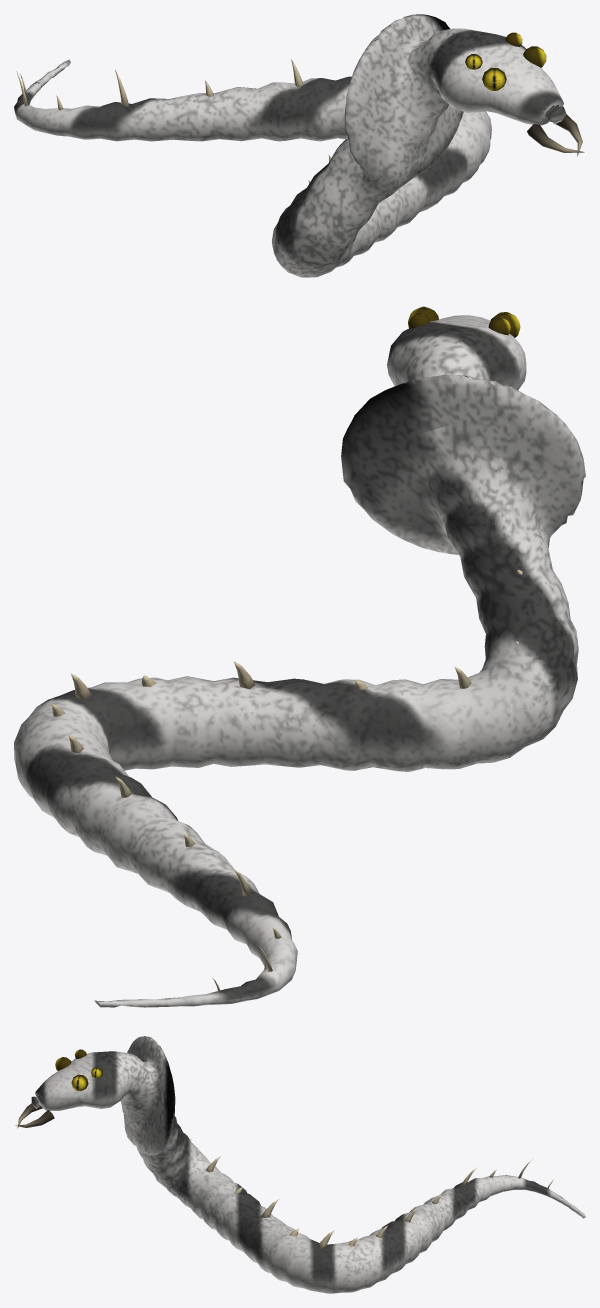
File: Snakelike.fbx
3 renders of one model, top to bottom at view 1: azimuth 30°, elevation 25°; view 2: azimuth 150°, elevation 25°; view 3: azimuth 270°, elevation 25°, orthographic. The views are drawn at different scales.
Parts seen in each view (by area): view 1: Snakelike; view 2: Snakelike; view 3: Snakelike.
Boxes of the visible parts, x1,y1,x2,y2 form: Snakelike: (14,14,584,277); Snakelike: (14,306,585,1007); Snakelike: (15,1036,585,1293).
Bounding box in the file's own units: 0.4678 × 0.3593 × 1.
2 materials, 2 textured.
